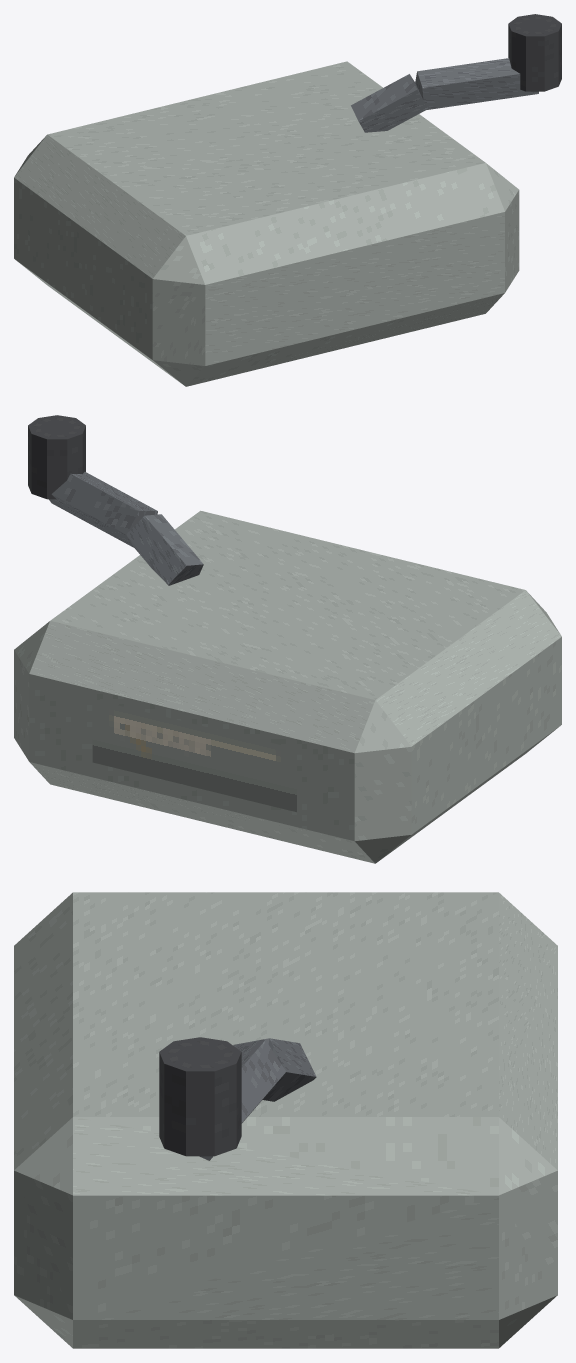
The model's file is hand_crank_charger.glb.
The picture shows the model from 3 angles, top to bottom: view 1: azimuth 30°, elevation 25°; view 2: azimuth 150°, elevation 25°; view 3: azimuth 270°, elevation 25°; orthographic projection. The views are drawn at different scales.
Parts seen in each view (by area): view 1: block_dynamo shell, block_folding crank 1, block_crank grip, block_folding crank 0; view 2: block_dynamo shell, block_charging display, block_crank grip, block_folding crank 1, block_folding crank 0; view 3: block_dynamo shell, block_crank grip, block_folding crank 1, block_folding crank 0.
Boxes of the visible parts, x1,y1,x2,y2 form: block_dynamo shell: (14,61,519,386); block_folding crank 1: (415,58,538,109); block_crank grip: (508,14,561,91); block_folding crank 0: (351,74,427,132); block_dynamo shell: (14,510,561,863); block_charging display: (92,699,296,812); block_crank grip: (28,415,85,499); block_folding crank 1: (49,472,157,547); block_folding crank 0: (126,514,203,585); block_dynamo shell: (14,892,557,1348); block_crank grip: (159,1037,241,1156); block_folding crank 1: (199,1040,286,1160); block_folding crank 0: (233,1038,316,1101).
Bounding box in the file's own units: 0.1508 × 0.0761 × 0.1045.
1 material, 1 textured.
